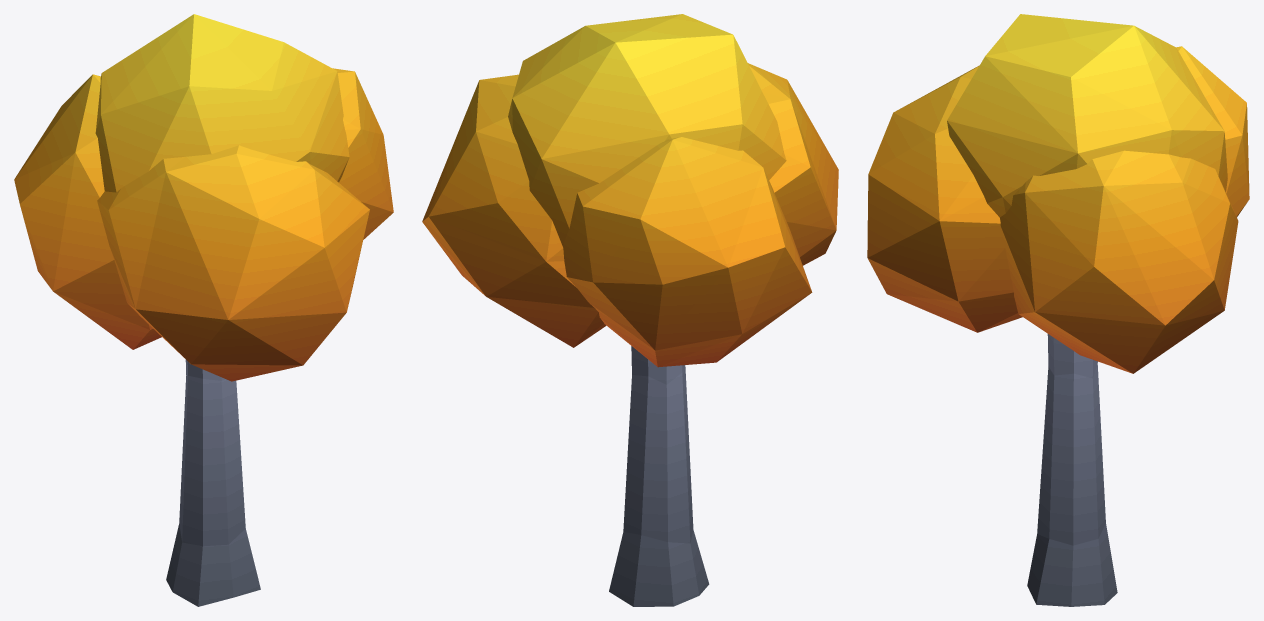
Rendered from Birch_I.glb.
3 views of the same model, side by side, from view 1: azimuth 30°, elevation 25°; view 2: azimuth 150°, elevation 25°; view 3: azimuth 270°, elevation 25° (orthographic). The views are drawn at different scales.
Parts seen in each view (by area): view 1: Birch_Leaves3_N, Birch_Leaves1_N, Birch_Leaves4_N, Birch_Trunk_N, Birch_Leaves2_N; view 2: Birch_Leaves4_N, Birch_Leaves1_N, Birch_Leaves2_N, Birch_Trunk_N, Birch_Leaves3_N; view 3: Birch_Leaves2_N, Birch_Leaves1_N, Birch_Leaves3_N, Birch_Trunk_N, Birch_Leaves4_N.
Part boxes in pixels (x1,y1,x2,y2): Birch_Leaves3_N: [97, 145, 369, 381]; Birch_Leaves1_N: [95, 14, 349, 192]; Birch_Leaves4_N: [14, 74, 161, 349]; Birch_Trunk_N: [166, 359, 260, 606]; Birch_Leaves2_N: [333, 68, 393, 239]; Birch_Leaves4_N: [563, 137, 812, 367]; Birch_Leaves1_N: [508, 14, 786, 247]; Birch_Leaves2_N: [422, 74, 606, 347]; Birch_Trunk_N: [609, 346, 709, 606]; Birch_Leaves3_N: [748, 63, 838, 265]; Birch_Leaves2_N: [1000, 150, 1238, 373]; Birch_Leaves1_N: [947, 14, 1227, 217]; Birch_Leaves3_N: [867, 65, 1022, 332]; Birch_Trunk_N: [1027, 334, 1117, 606]; Birch_Leaves4_N: [1176, 46, 1249, 216].
Size of the model in its own units: 2.25 by 3.46 by 2.1.
Materials: 1 (1 with a texture image).
